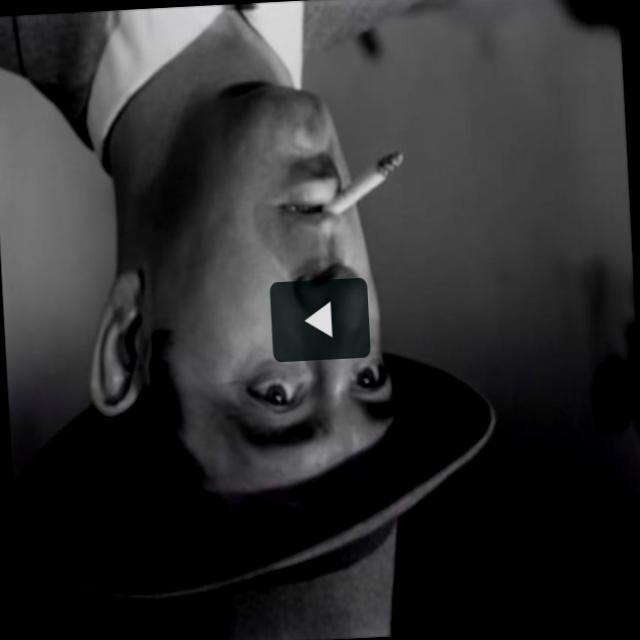smoke: (323, 144, 409, 222)
